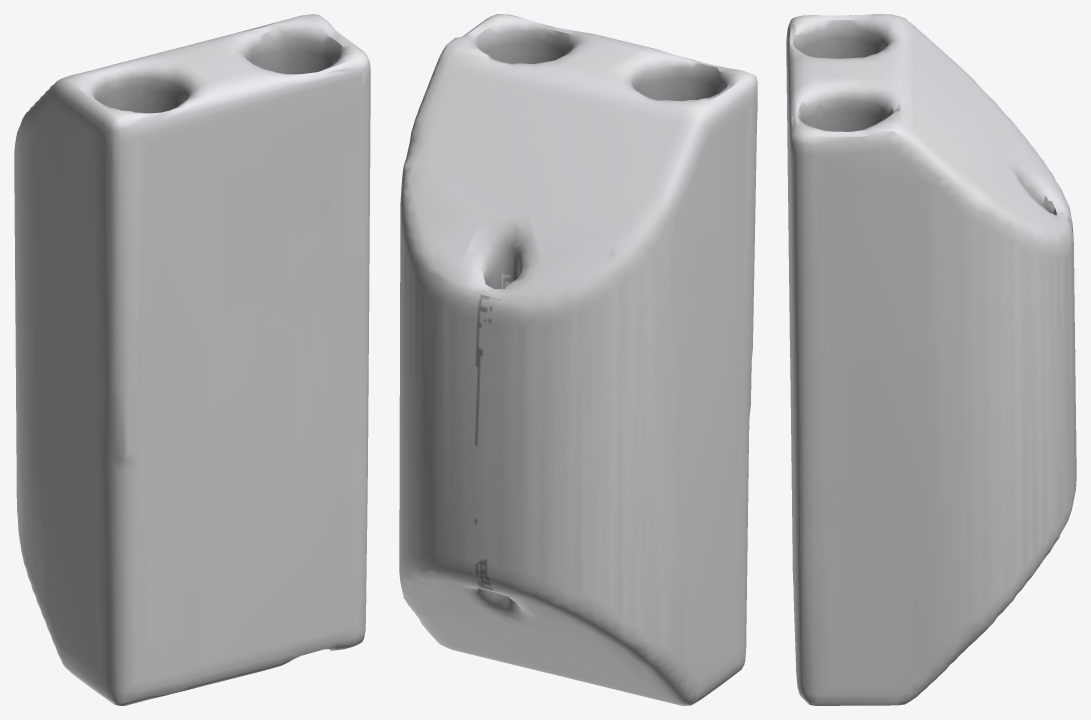
Rendered from left_finger1_lower.glb.
3 renders of one model, left to right at view 1: azimuth 30°, elevation 25°; view 2: azimuth 150°, elevation 25°; view 3: azimuth 270°, elevation 25°, orthographic. The views are drawn at different scales.
Parts seen in each view (by area): view 1: left_finger1_lower; view 2: left_finger1_lower; view 3: left_finger1_lower.
Part boxes in pixels (left/top/right/bottom): left_finger1_lower: left=14, top=14, right=370, bottom=705; left_finger1_lower: left=399, top=14, right=757, bottom=705; left_finger1_lower: left=786, top=14, right=1076, bottom=705.
Bounding box in the file's own units: 0.0108 × 0.0232 × 0.0105.
1 material, 1 textured.
